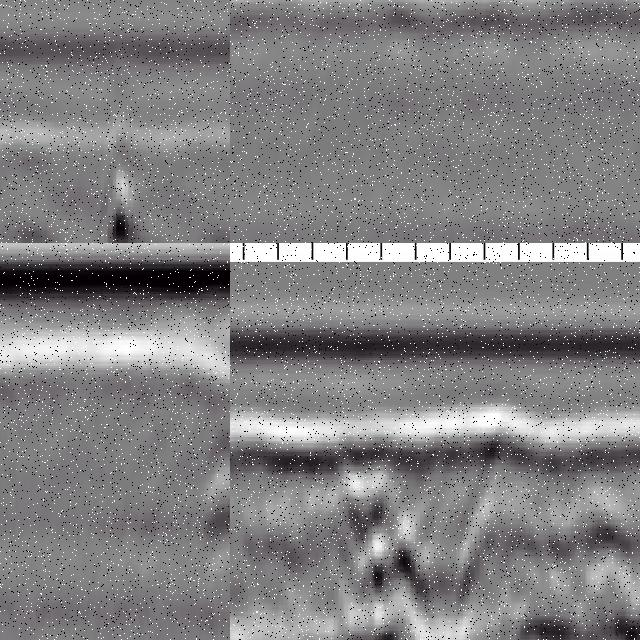crack: (94, 101, 141, 244)
loose: (269, 405, 640, 640), (201, 328, 231, 619)
